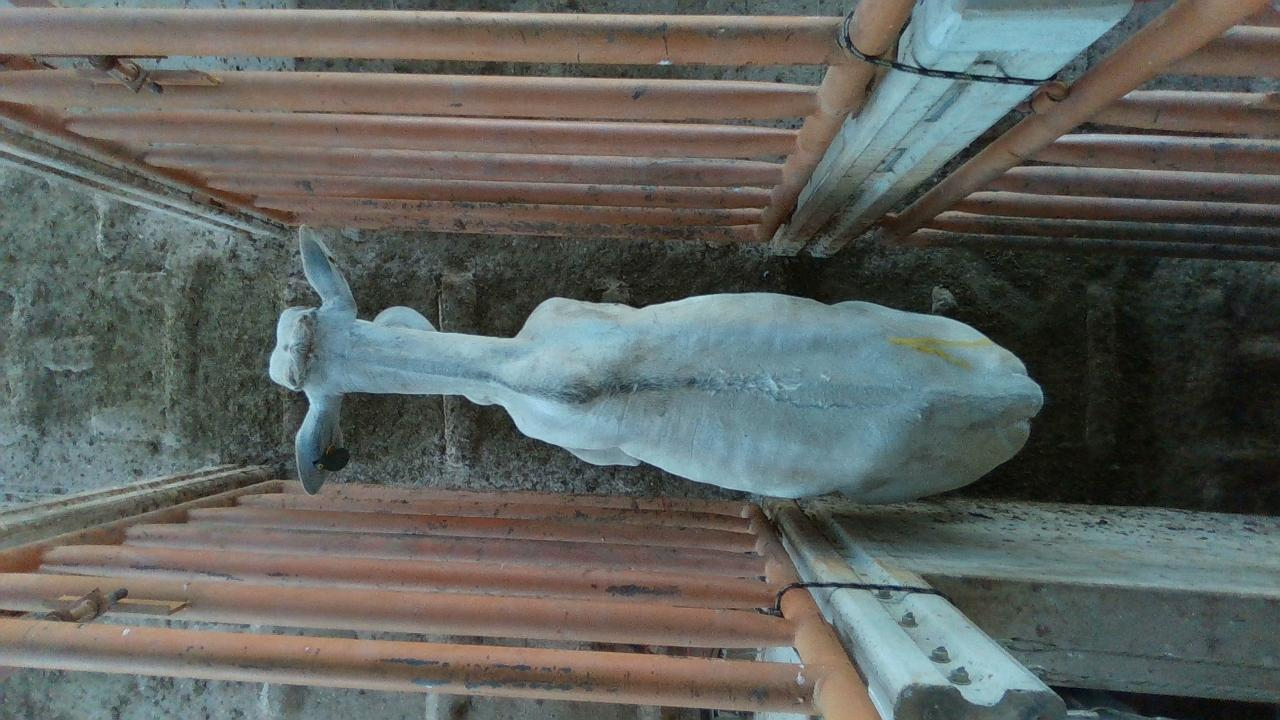cattle: (266, 222, 1044, 505)
